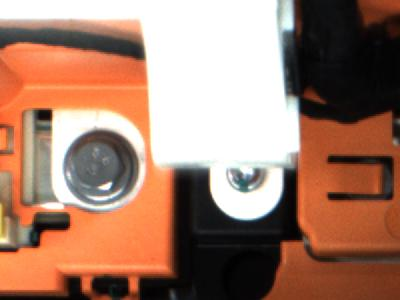nut_b: (60, 124, 138, 207)
